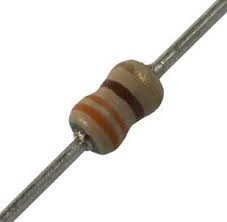resistor: (35, 26, 178, 171)
